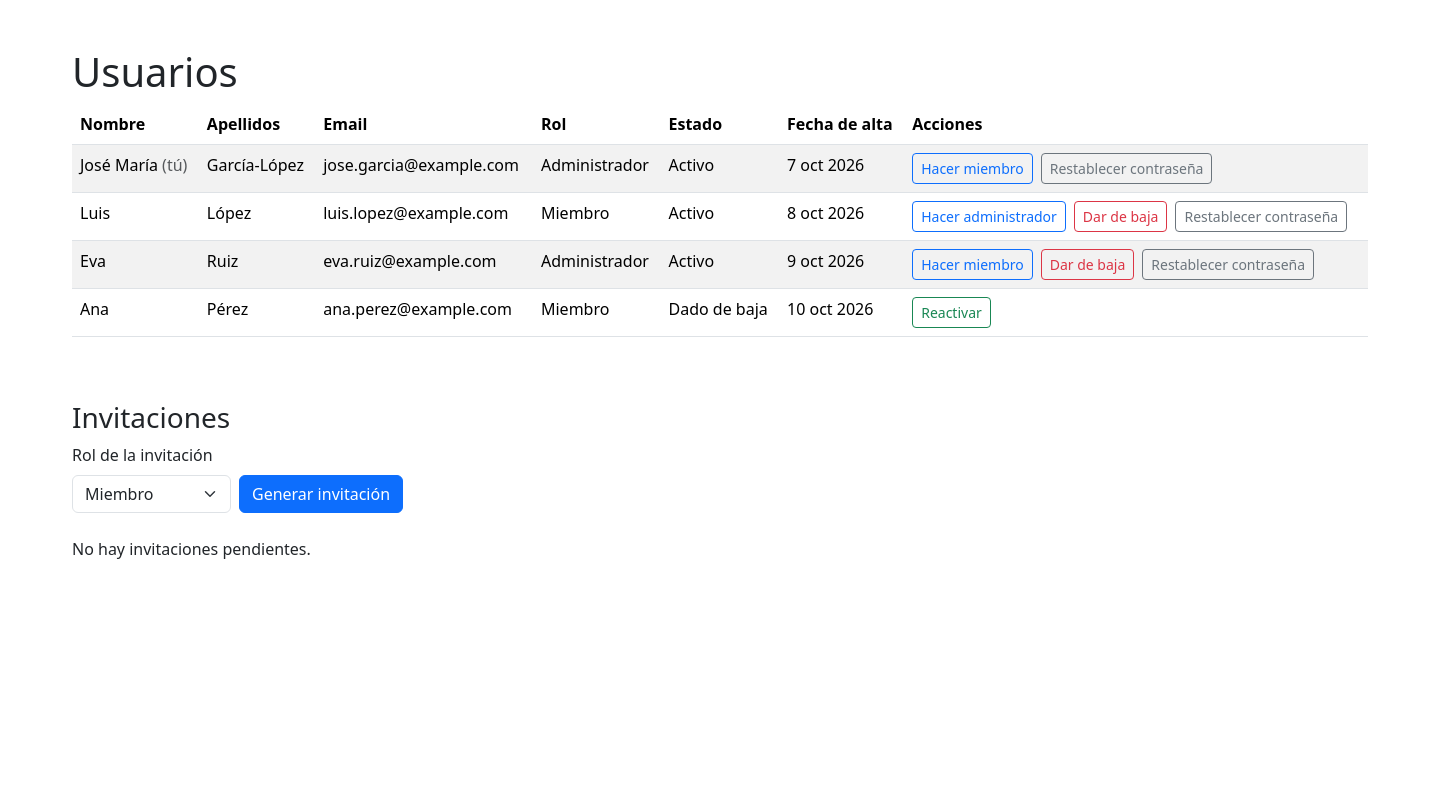
UsersPage actions › suspending › suspends the user and shows it as suspended once the dialog is confirmed
Click the button "Dar de baja" in the row of "luis.lopez@example.com" at (1121, 216), box [1074,201,1168,232]
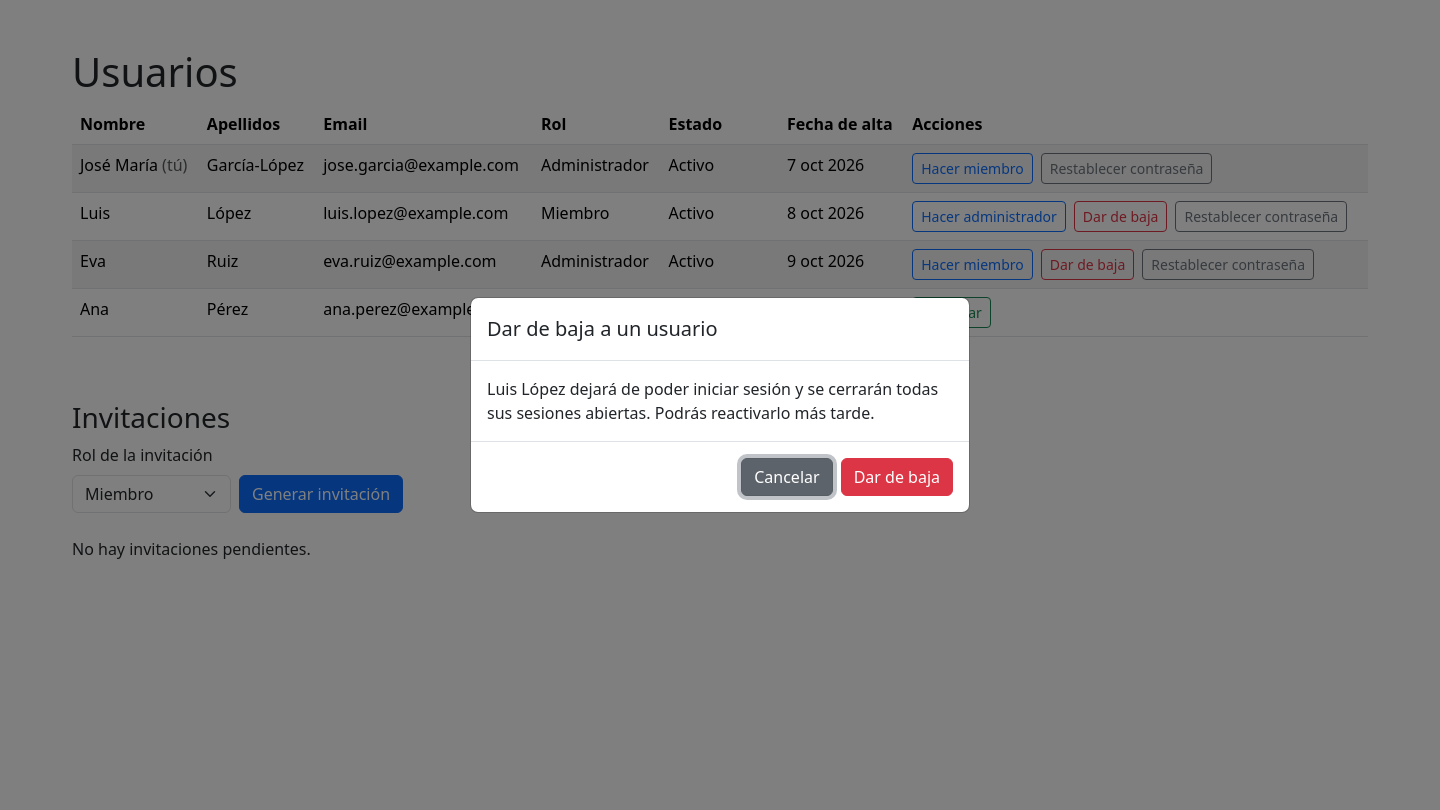
# El botón del diálogo comparte nombre con los de las filas: se busca dentro del diálogo.
Click the button "Dar de baja" at (897, 477), box [841,458,953,496]
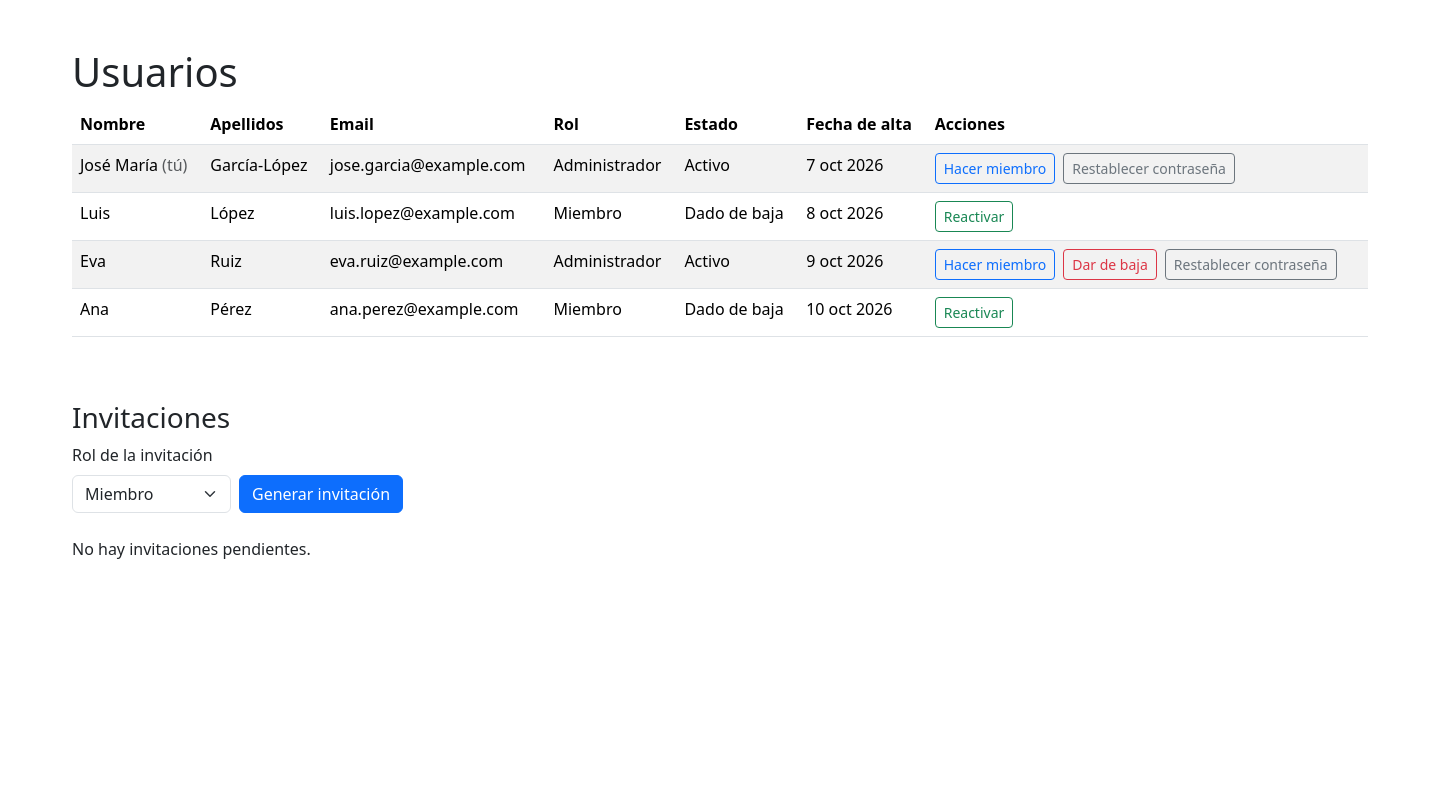
Check: the text "luis.lopez@example.com" shows "Dado de baja", box [684,202,784,224]
Check: the dialog is gone
Check: the button "Reactivar" in the row of "luis.lopez@example.com" is shown, box [935,201,1013,232]
